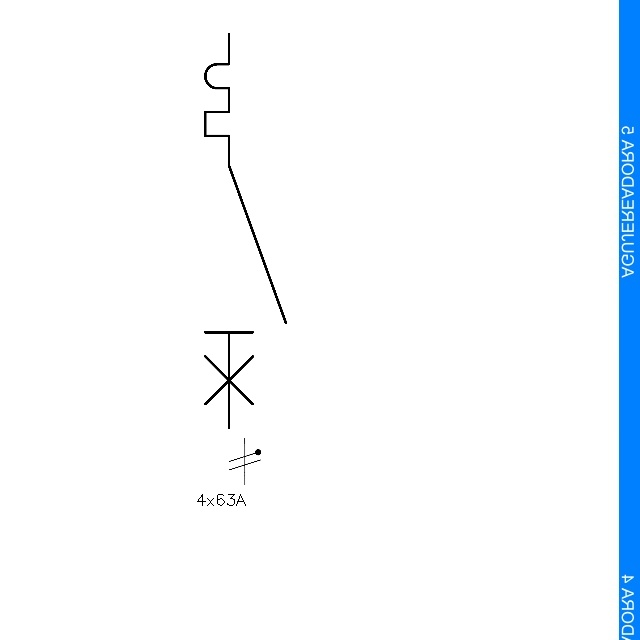interruptor_termomagnetico: (195, 24, 296, 438)
